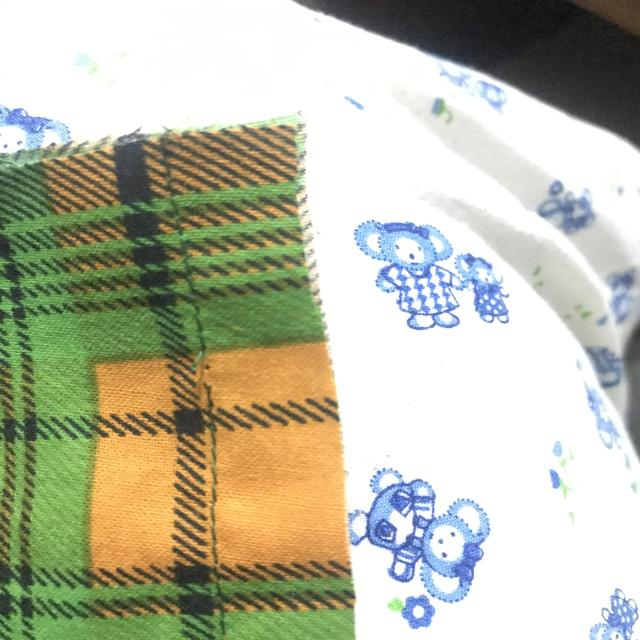broken: (170, 327, 228, 399)
good: (194, 462, 226, 558)
